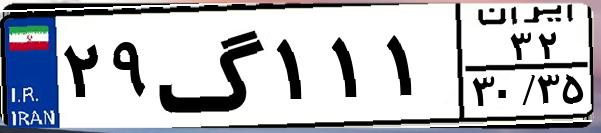0: (495, 70, 520, 125)
1: (270, 28, 330, 110), (385, 28, 445, 110), (330, 28, 385, 110)
2: (57, 26, 110, 100), (537, 27, 568, 80)
3: (508, 27, 537, 80), (470, 70, 495, 125), (535, 70, 560, 125)
5: (560, 70, 590, 125)
9: (110, 28, 156, 98)
گ: (156, 12, 270, 120)
